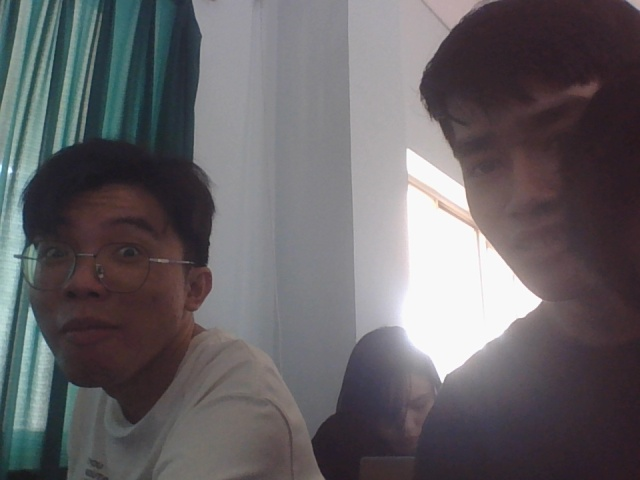real: (20, 123, 209, 391)
